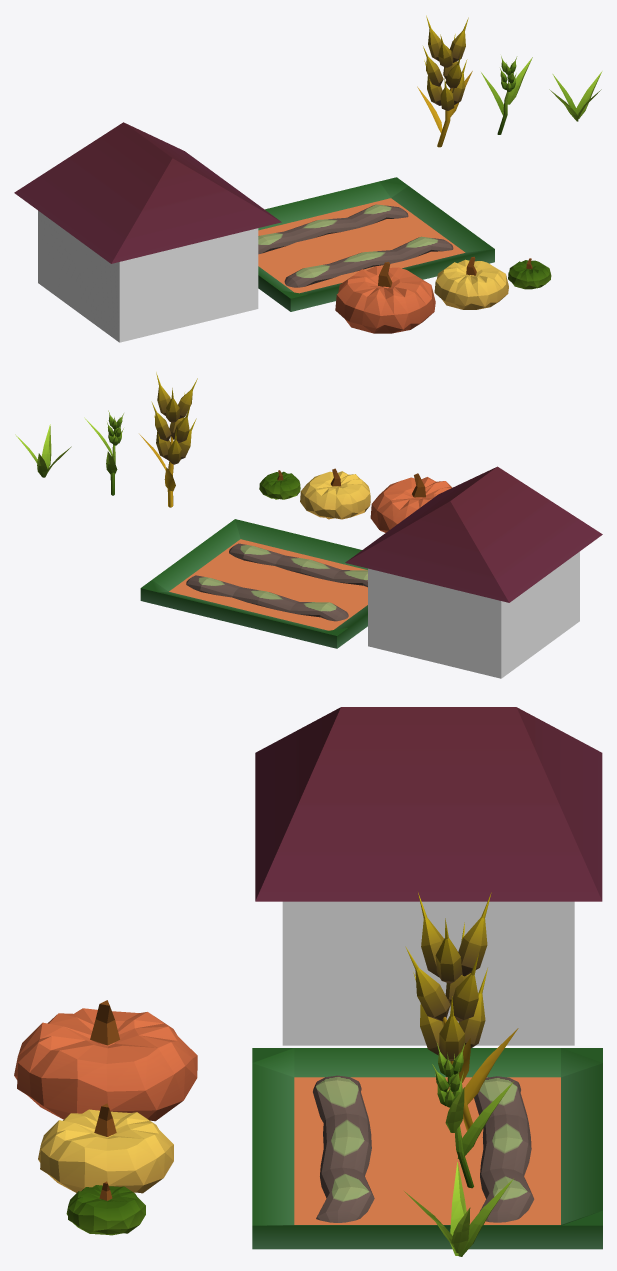
Rendered from farm.fbx.
The picture shows the model from 3 angles, top to bottom: view 1: azimuth 30°, elevation 25°; view 2: azimuth 150°, elevation 25°; view 3: azimuth 270°, elevation 25°; orthographic projection. The views are drawn at different scales.
Parts seen in each view (by area): view 1: ev, plot, pumpkin_, soil, Cylinder.007, pumpkin_.001, Trunk.001, pumpkin_.002, Leaf.005; view 2: ev, plot, soil, pumpkin_.001, Cylinder.007, pumpkin_, pumpkin_.002, Trunk.001, Leaf.005; view 3: ev, plot, pumpkin_, soil, Cylinder.007, pumpkin_.001, pumpkin_.002, Trunk.001, Leaf.005.
Part boxes in pixels (x1,y1,x2,y2): ev: (14,122,281,342); plot: (258,177,494,311); pumpkin_: (335,262,435,333); soil: (258,204,453,287); Cylinder.007: (417,15,472,147); pumpkin_.001: (434,256,508,309); Trunk.001: (481,56,532,134); pumpkin_.002: (508,258,551,289); Leaf.005: (549,71,602,121); ev: (345,466,602,678); plot: (140,519,367,648); soil: (186,543,367,621); pumpkin_.001: (300,468,370,519); Cylinder.007: (139,372,197,507); pumpkin_: (370,473,452,532); pumpkin_.002: (259,470,300,499); Trunk.001: (84,410,123,495); Leaf.005: (15,424,71,477); ev: (255,707,602,1045); plot: (252,1048,602,1249); pumpkin_: (14,1000,197,1121); soil: (313,1075,534,1222); Cylinder.007: (405,892,518,1130); pumpkin_.001: (38,1103,173,1193); pumpkin_.002: (66,1181,145,1235); Trunk.001: (432,1042,513,1188); Leaf.005: (404,1161,513,1256).
Bounding box in the file's own units: 647 × 228 × 335.
